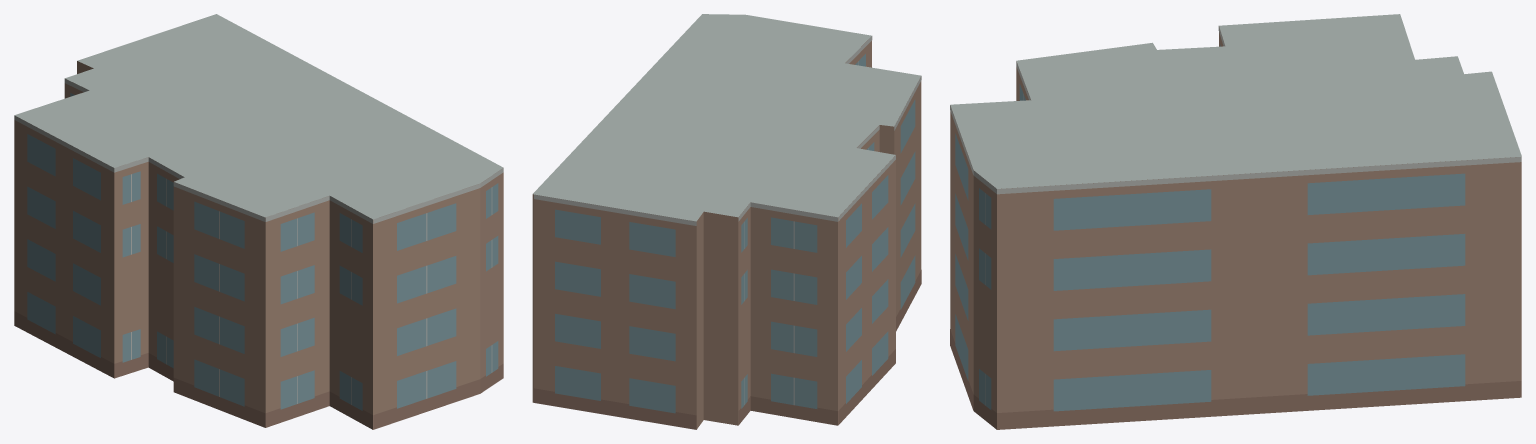
File: survey-upis-32624739.glb
3 views of the same model, side by side, from view 1: azimuth 30°, elevation 25°; view 2: azimuth 150°, elevation 25°; view 3: azimuth 270°, elevation 25° (orthographic). The views are drawn at different scales.
Parts seen in each view (by area): view 1: survey-upis-32624739.tmp; view 2: survey-upis-32624739.tmp; view 3: survey-upis-32624739.tmp.
Boxes of the visible parts, bbox=[...] form: survey-upis-32624739.tmp: bbox=[14, 14, 503, 429]; survey-upis-32624739.tmp: bbox=[532, 14, 921, 429]; survey-upis-32624739.tmp: bbox=[950, 14, 1521, 429].
Size of the model in its own units: 17.27 by 11.08 by 23.84.
